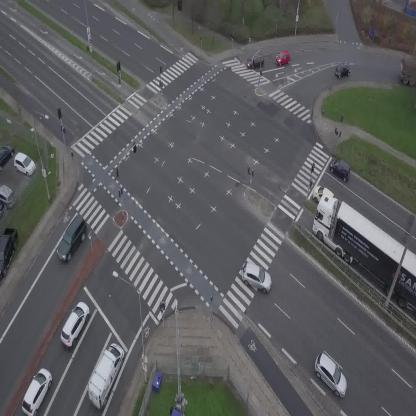car: (307, 351, 355, 401), (50, 214, 94, 264), (56, 299, 95, 349), (17, 366, 56, 416), (237, 261, 277, 295), (326, 156, 354, 182), (310, 182, 335, 203), (332, 62, 352, 80), (244, 52, 265, 69), (274, 50, 292, 66)
lorry: (401, 53, 416, 86)
